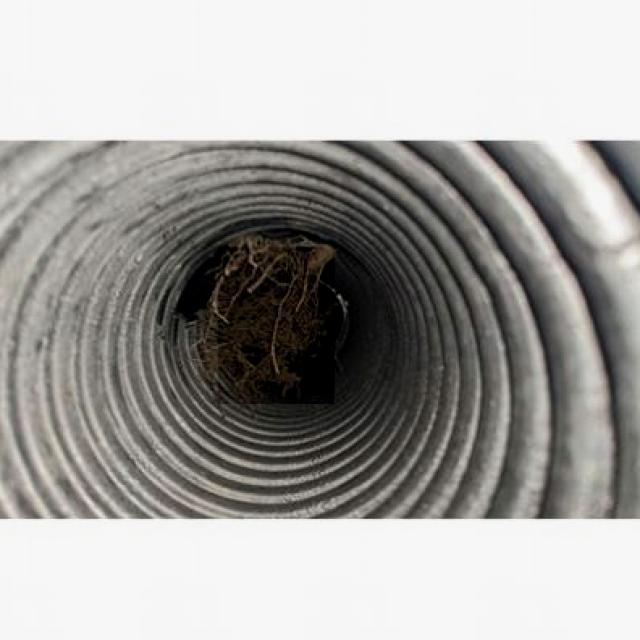root: (196, 236, 330, 352)
